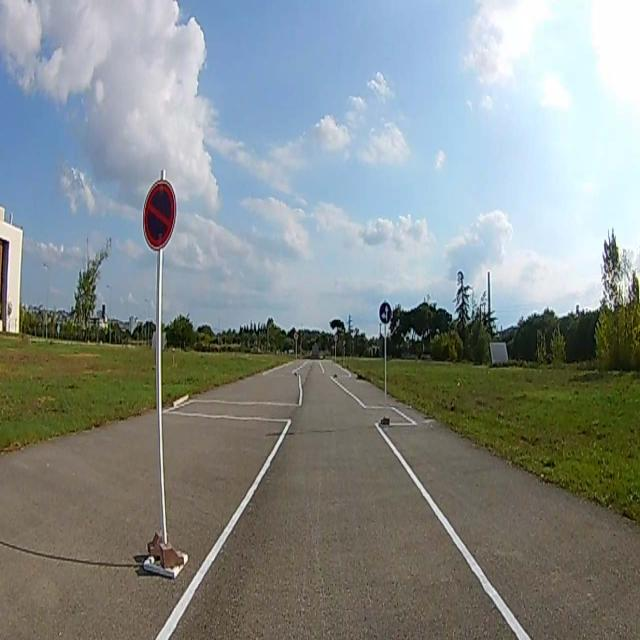ilerisol: (380, 302, 390, 324)
parkyasak: (143, 181, 177, 249)
